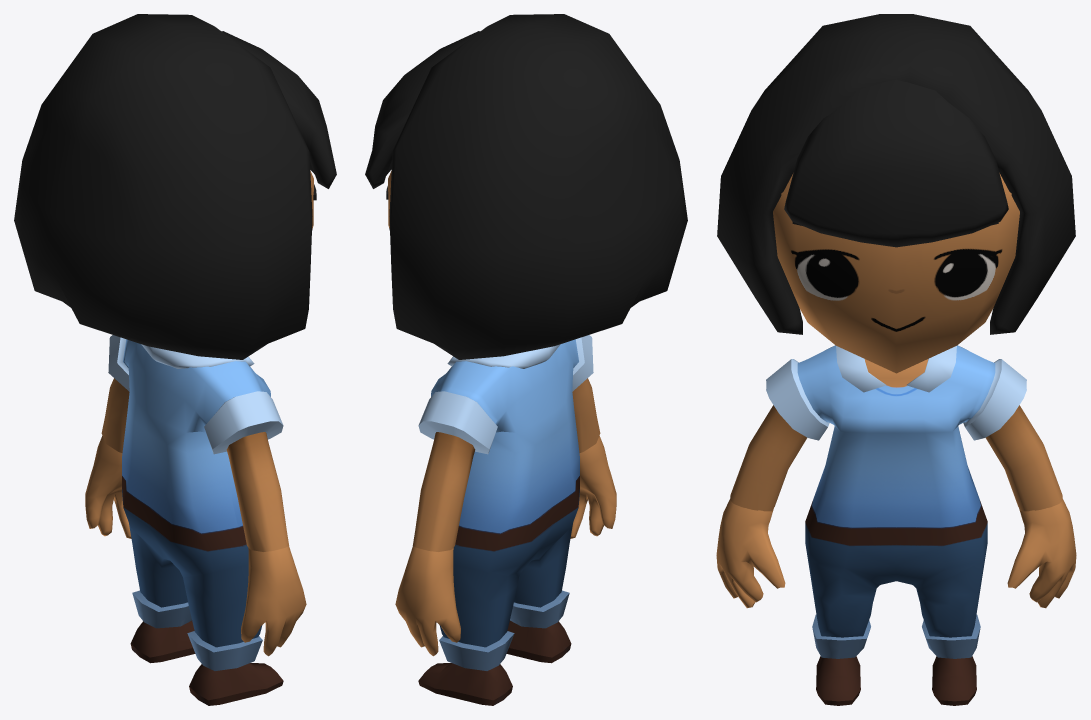
Rendered from FChar2_A.fbx.
3 renders of one model, left to right at view 1: azimuth 30°, elevation 25°; view 2: azimuth 150°, elevation 25°; view 3: azimuth 270°, elevation 25°, orthographic.
Visible parts, largest first — view 1: FChar2_A; view 2: FChar2_A; view 3: FChar2_A.
Boxes of the visible parts, <box> form: FChar2_A: <box>14,14,336,705</box>; FChar2_A: <box>365,14,687,705</box>; FChar2_A: <box>716,14,1076,705</box>.
Bounding box in the file's own units: 52.85 × 127 × 64.49.
